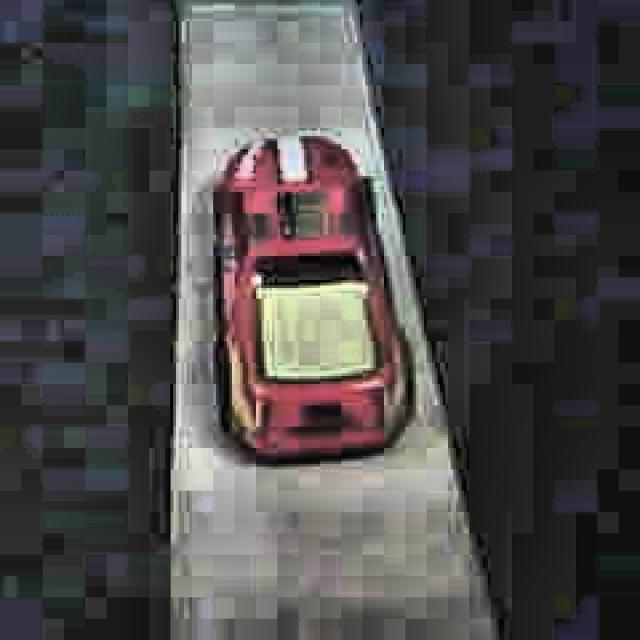car: (205, 132, 417, 469)
